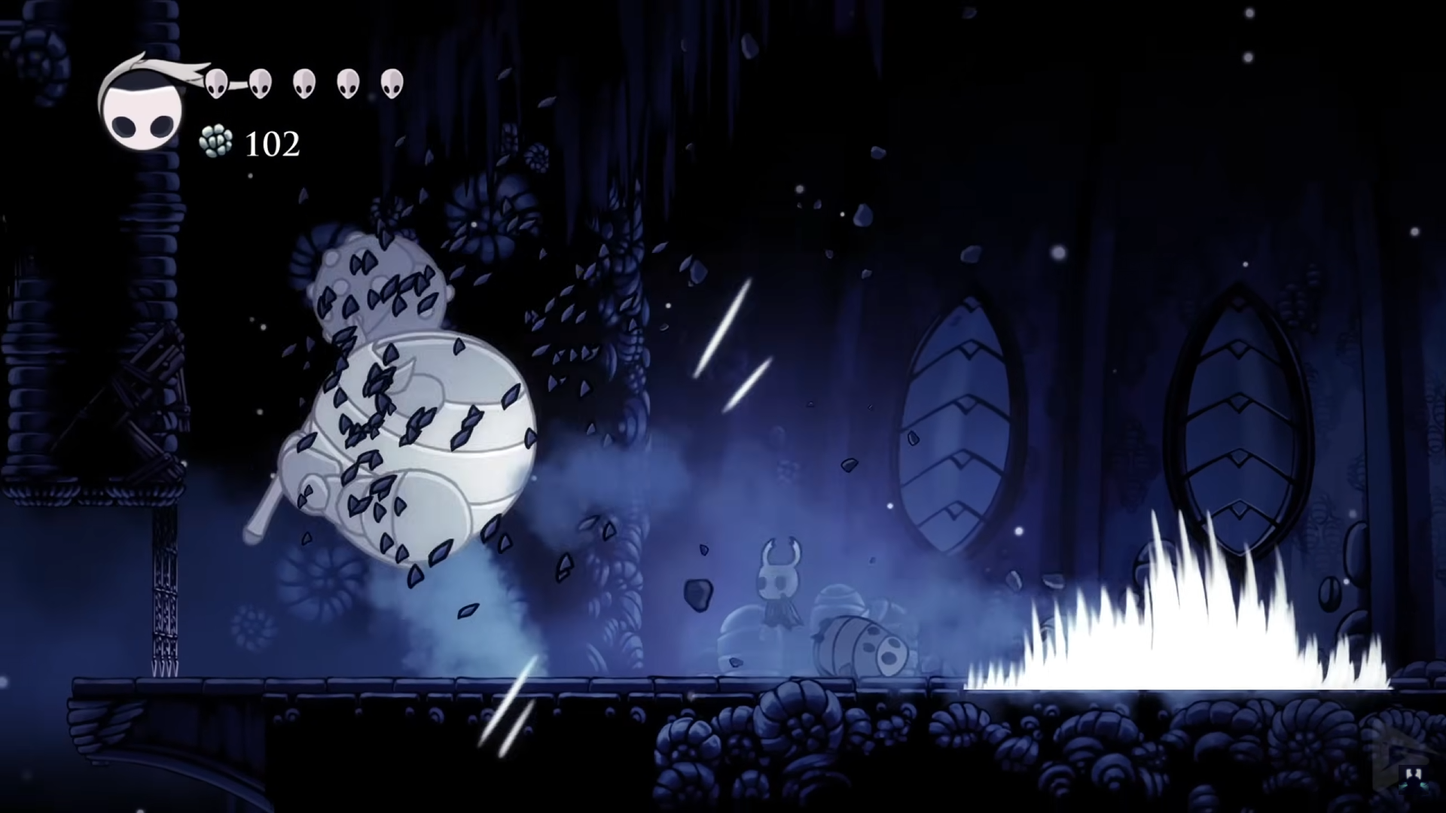HK: (749, 537, 808, 635)
